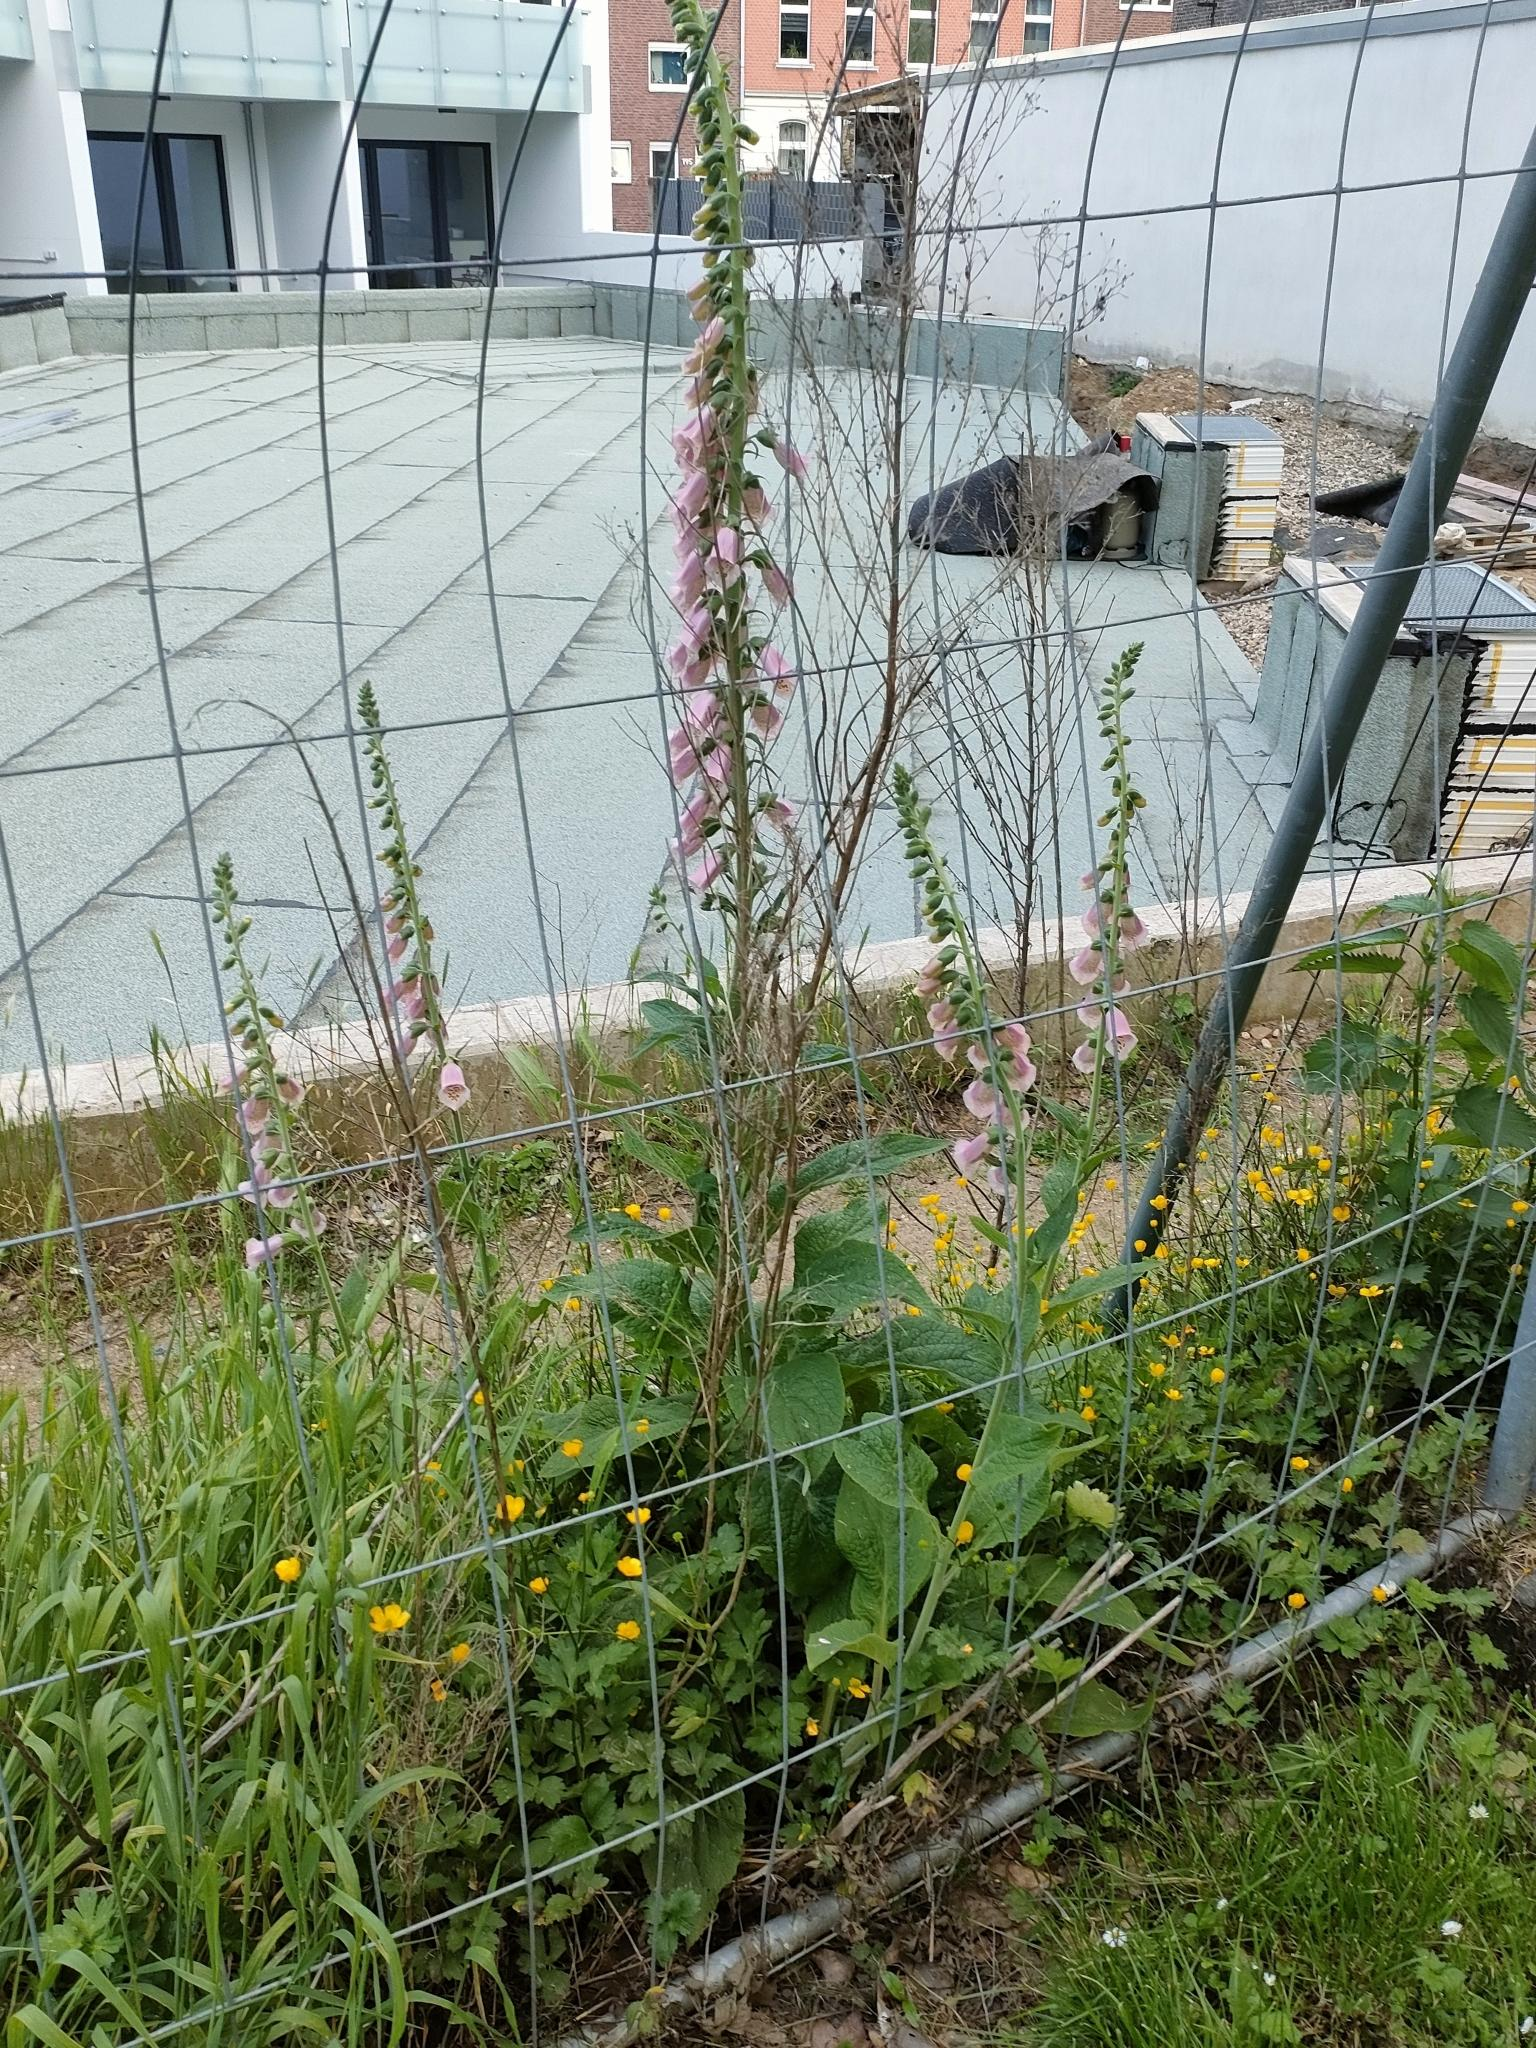Digitalis L: (641, 3, 866, 1559), (361, 660, 515, 1650), (1026, 622, 1186, 1440), (161, 830, 352, 1496), (878, 763, 1046, 1513)
